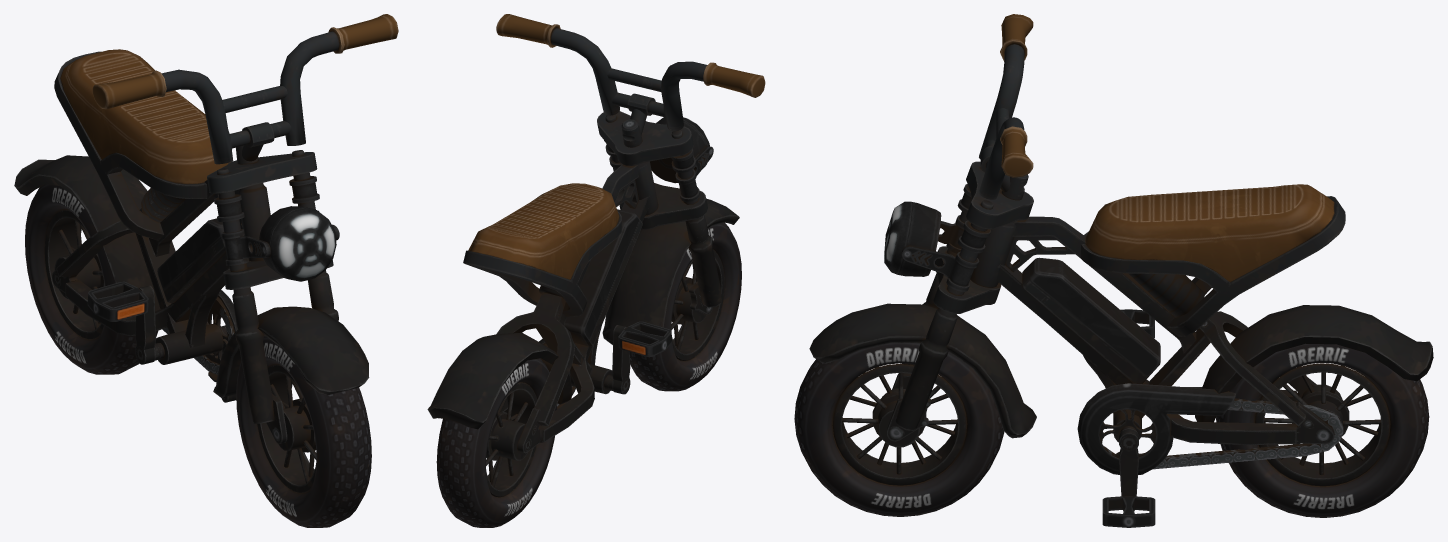
The model's file is Fatbike_LOD0.fbx.
The picture shows the model from 3 angles, left to right: view 1: azimuth 30°, elevation 25°; view 2: azimuth 150°, elevation 25°; view 3: azimuth 270°, elevation 25°; orthographic projection. The views are drawn at different scales.
Visible parts, largest first — view 1: Frame, Fork, Tire_front, Tire_back, Peddle_right, Peddle_axis, Chain; view 2: Frame, Fork, Tire_back, Tire_front, Peddle_right, Peddle_axis; view 3: Frame, Fork, Tire_front, Tire_back, Chain, Peddle_left, Peddle_axis.
Boxes of the visible parts, x1,y1,x2,y2 form: Frame: (14,49,270,382); Fork: (92,14,398,443); Tire_front: (236,336,371,527); Tire_back: (25,184,158,374); Peddle_right: (87,281,148,321); Peddle_axis: (135,285,236,402); Chain: (162,297,234,374); Frame: (427,161,658,453); Fork: (496,14,765,344); Tire_back: (436,358,557,527); Tire_front: (629,222,741,391); Peddle_right: (618,321,671,357); Peddle_axis: (604,325,630,394); Frame: (970,184,1433,474); Fork: (809,14,1036,441); Tire_front: (794,343,1004,516); Tire_back: (1216,343,1429,517); Chain: (1103,398,1343,469); Peddle_left: (1102,496,1155,527); Peddle_axis: (1119,426,1138,496).
Size of the model in its own units: 106 by 149 by 201.
